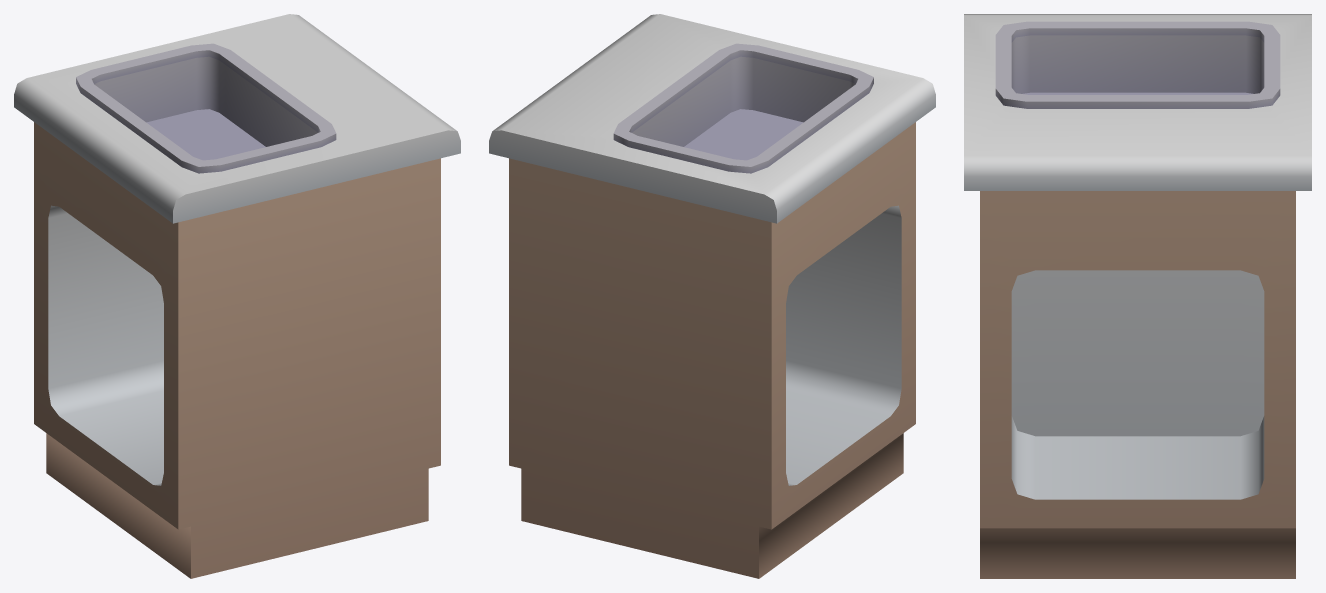
File: cabinet-basic-island-sink.glb
3 renders of one model, left to right at view 1: azimuth 30°, elevation 25°; view 2: azimuth 150°, elevation 25°; view 3: azimuth 270°, elevation 25°, orthographic. The views are drawn at different scales.
Visible parts, largest first — view 1: cabinet-basic-island-sink; view 2: cabinet-basic-island-sink; view 3: cabinet-basic-island-sink.
Part boxes in pixels (x1=…): cabinet-basic-island-sink: x1=14, y1=14, x2=460, y2=578; cabinet-basic-island-sink: x1=489, y1=14, x2=935, y2=578; cabinet-basic-island-sink: x1=964, y1=14, x2=1311, y2=578.
Size of the model in its own units: 0.575 by 0.7625 by 0.55.
